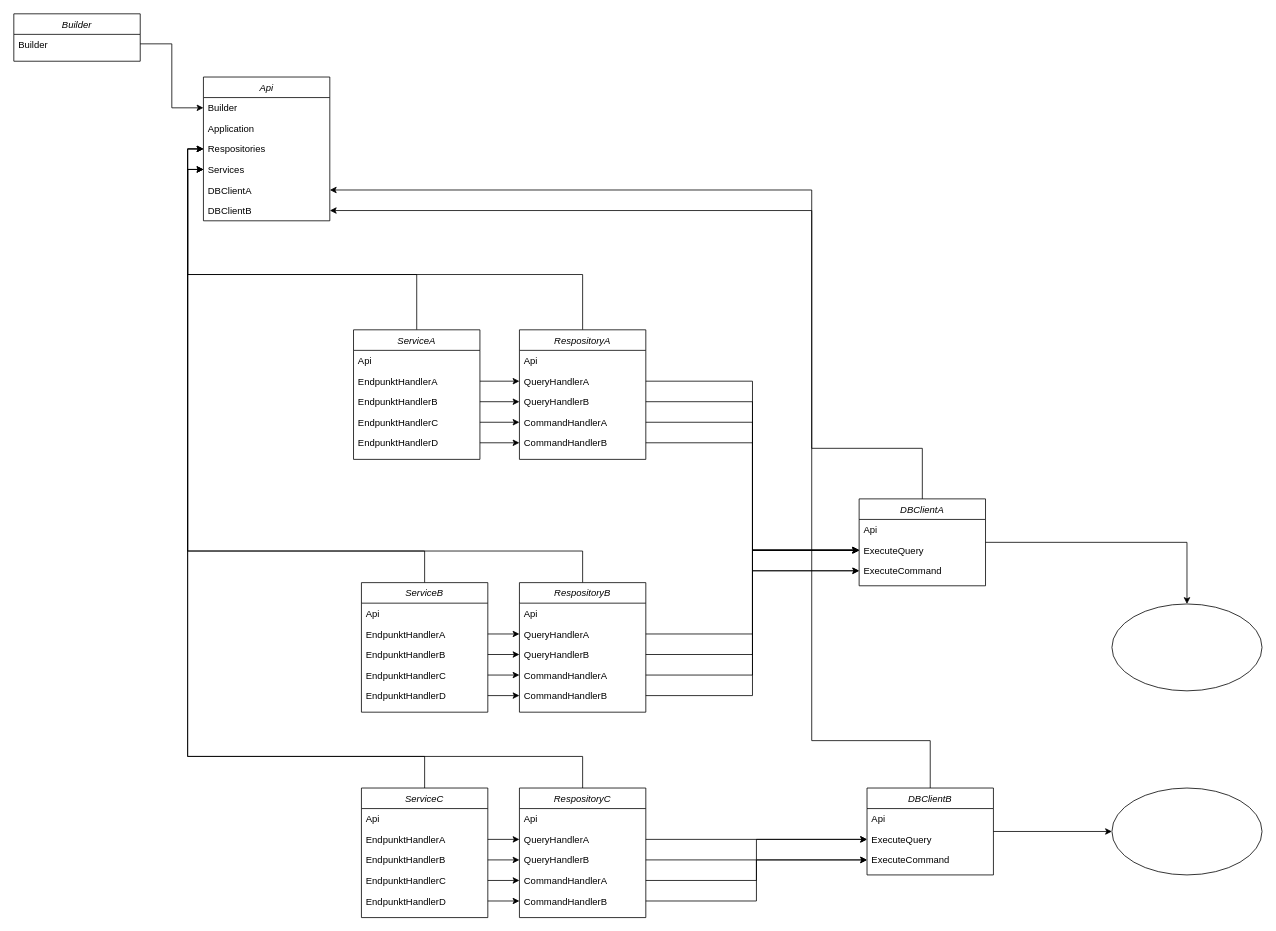
Some shapes in this 1276 by 931 pixel diagram are drawn without their labels. The centre of each missing label's shape, as x and y in pixels:
"DatenbankA" belongs at point 1186,647.
"DatenbankB" belongs at point 1186,831.
